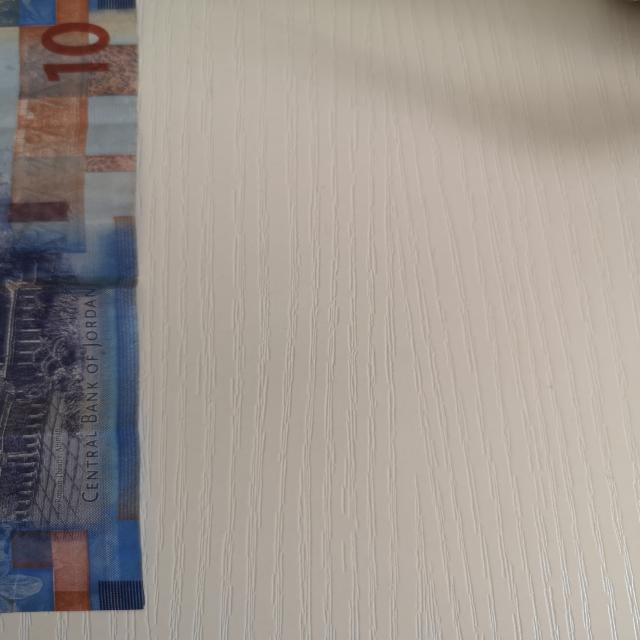10-dinar: (0, 0, 145, 613)
